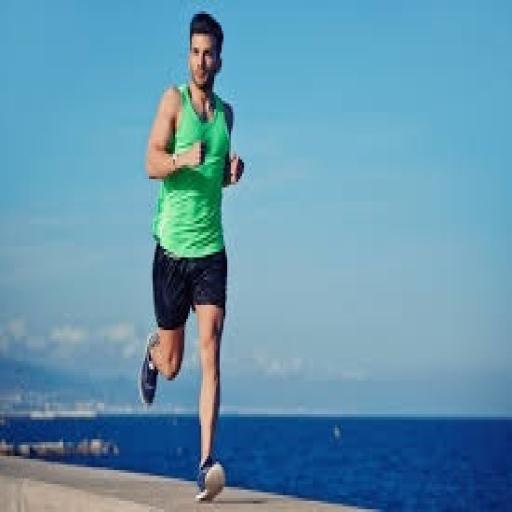running: (136, 8, 248, 506)
